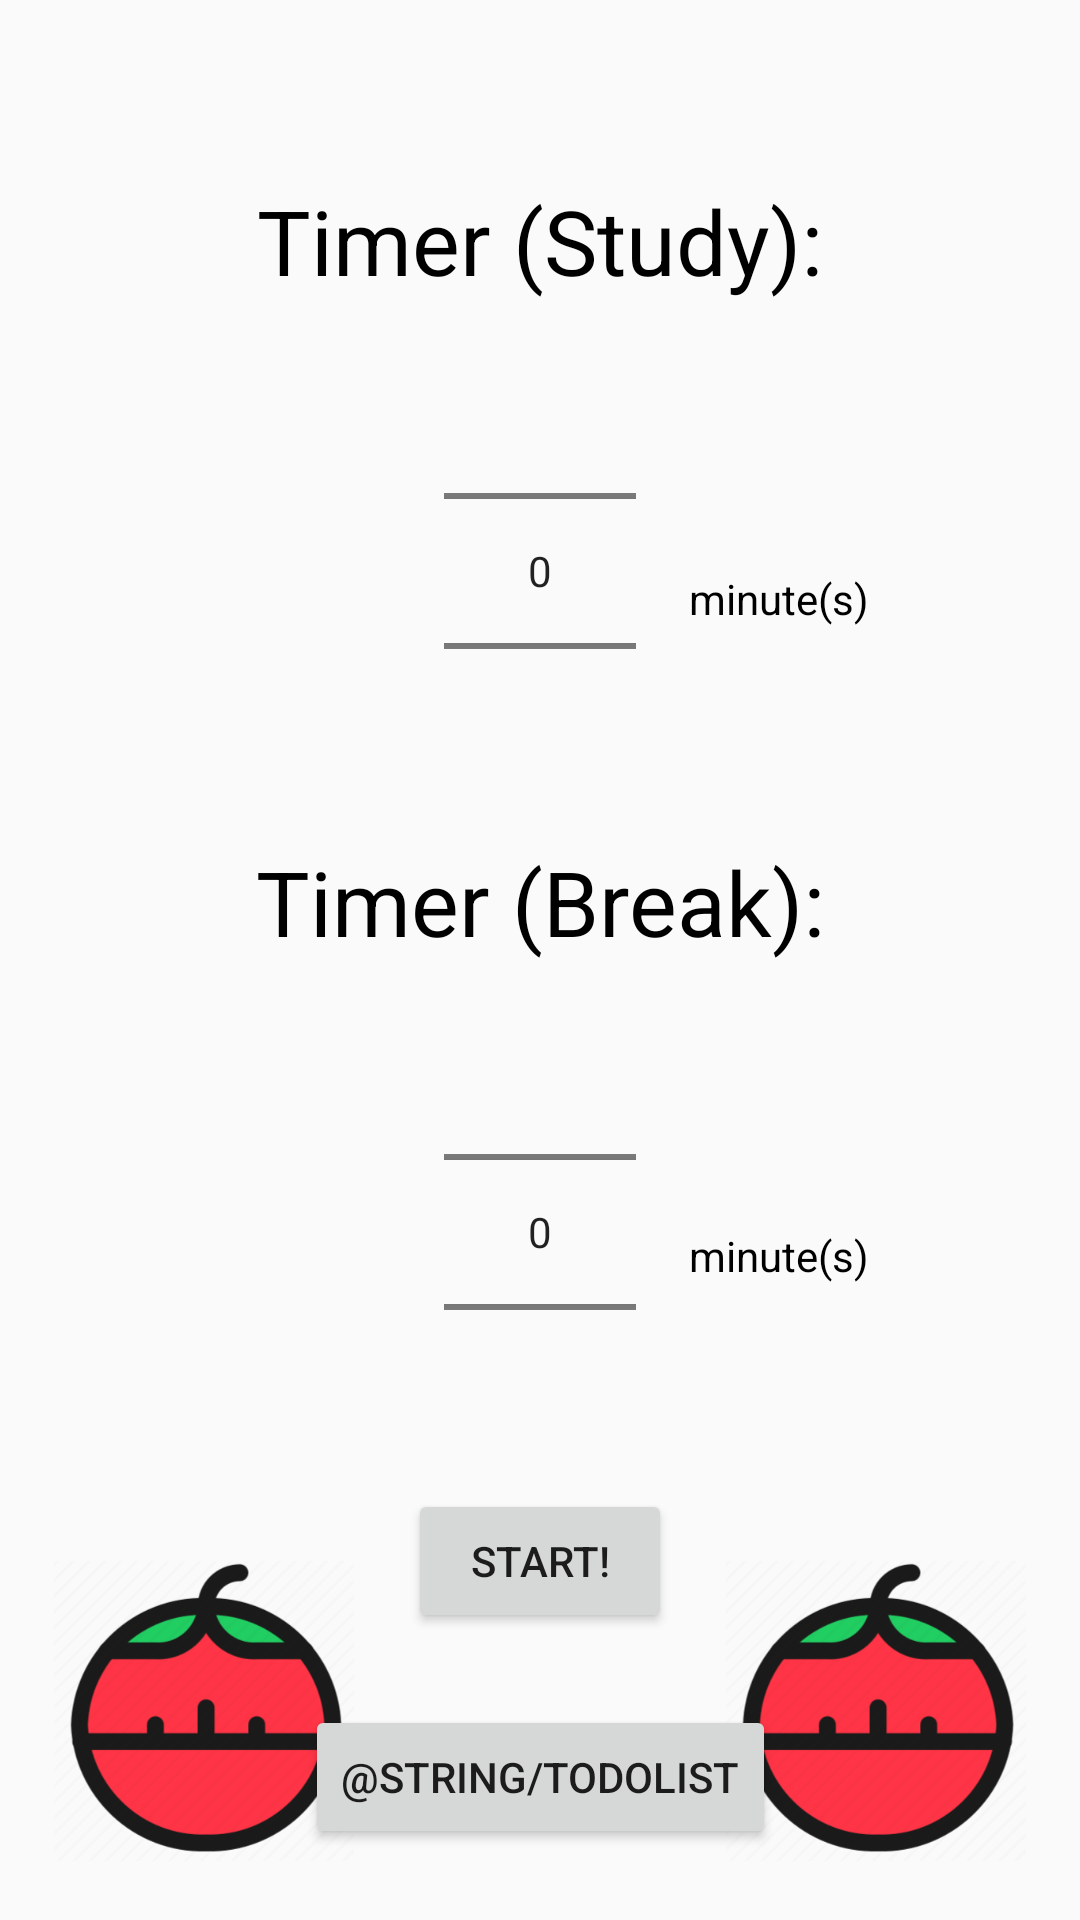

Where icons sit on this 1080×1920 app screen, as detection(x1, y1, x2, y2):
Image of a clock in the shape of a tomato: detection(70, 1564, 354, 1852), detection(726, 1564, 1014, 1852)
